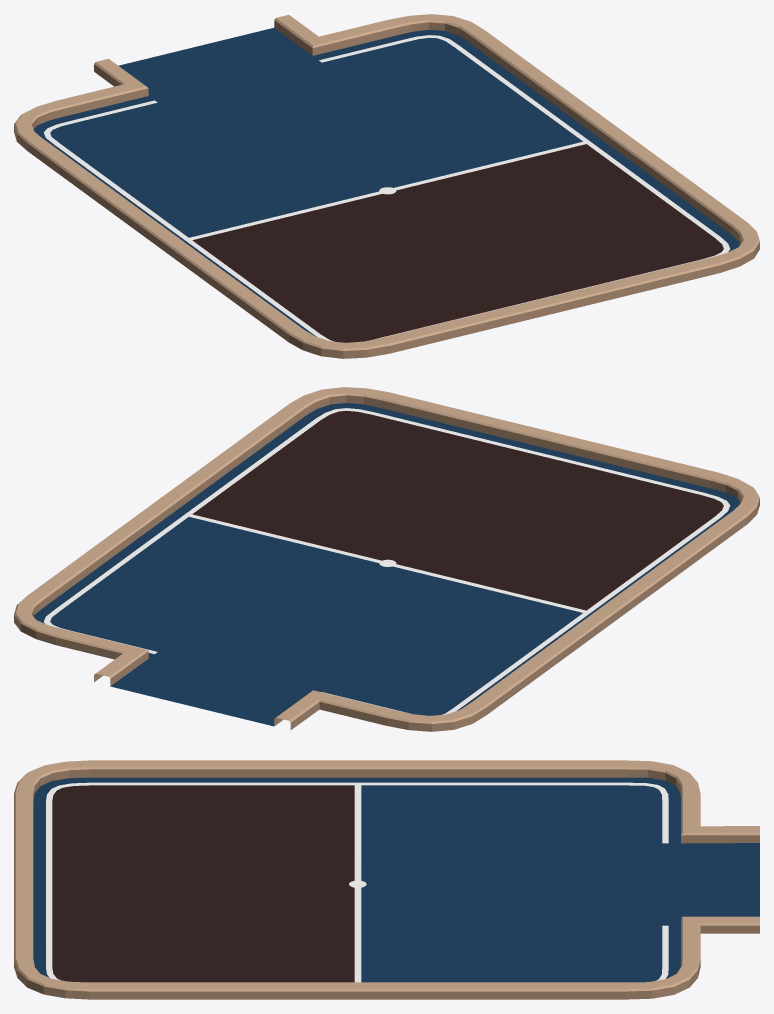
The model's file is PokemonMonster_Landing_RoadStage3_2.fbx.
The picture shows the model from 3 angles, top to bottom: view 1: azimuth 30°, elevation 25°; view 2: azimuth 150°, elevation 25°; view 3: azimuth 270°, elevation 25°; orthographic projection. The views are drawn at different scales.
Visible parts, largest first — view 1: Road_stage_cn; view 2: Road_stage_cn; view 3: Road_stage_cn.
Part boxes in pixels (x1=…): Road_stage_cn: x1=14, y1=14, x2=759, y2=358; Road_stage_cn: x1=14, y1=387, x2=759, y2=731; Road_stage_cn: x1=14, y1=760, x2=759, y2=999.
Size of the model in its own units: 1400 by 27.8 by 1917.
